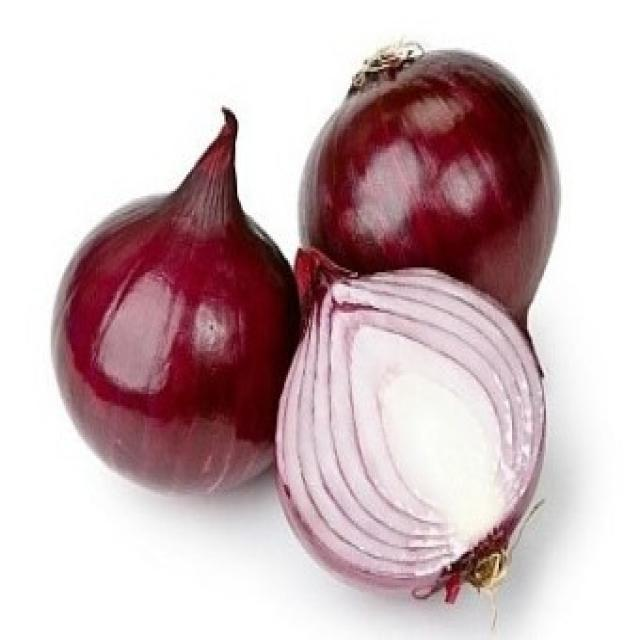Onion: (50, 105, 303, 494), (278, 239, 548, 601), (300, 40, 562, 378)
